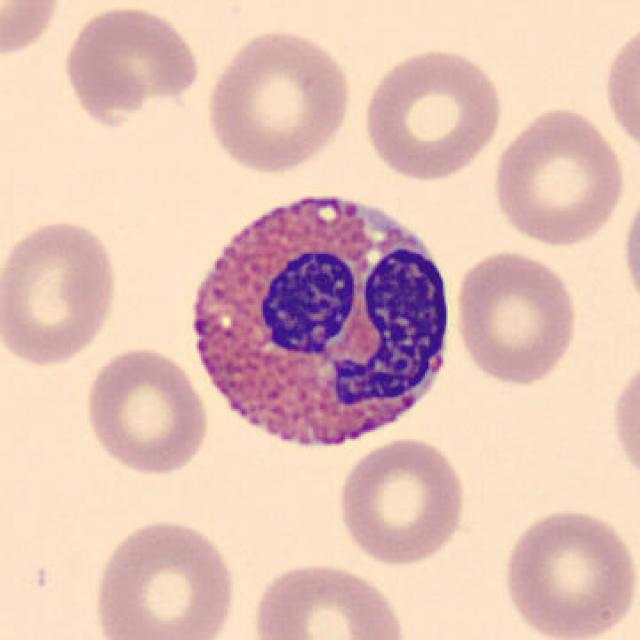Eosinophil: (174, 171, 464, 474)
RBC: (201, 23, 355, 176), (359, 43, 507, 184), (487, 102, 628, 249), (498, 502, 638, 640), (0, 214, 123, 370), (89, 515, 242, 640), (333, 433, 471, 568), (450, 247, 581, 388), (59, 2, 202, 130), (80, 344, 212, 478), (247, 557, 413, 640), (599, 18, 640, 162), (606, 351, 640, 492), (0, 0, 66, 62), (618, 176, 640, 317)
